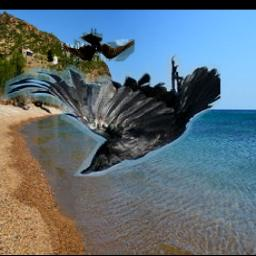Crow: (2, 54, 221, 176), (61, 29, 136, 62)
